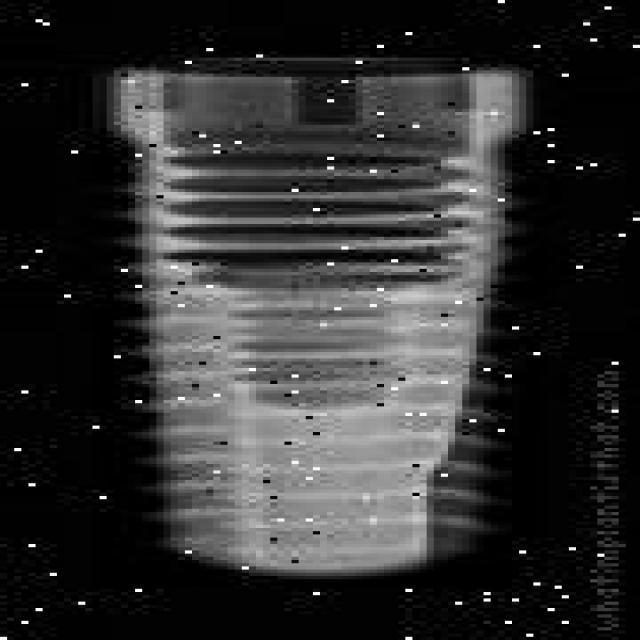Root canal obturation: (85, 58, 540, 594)
